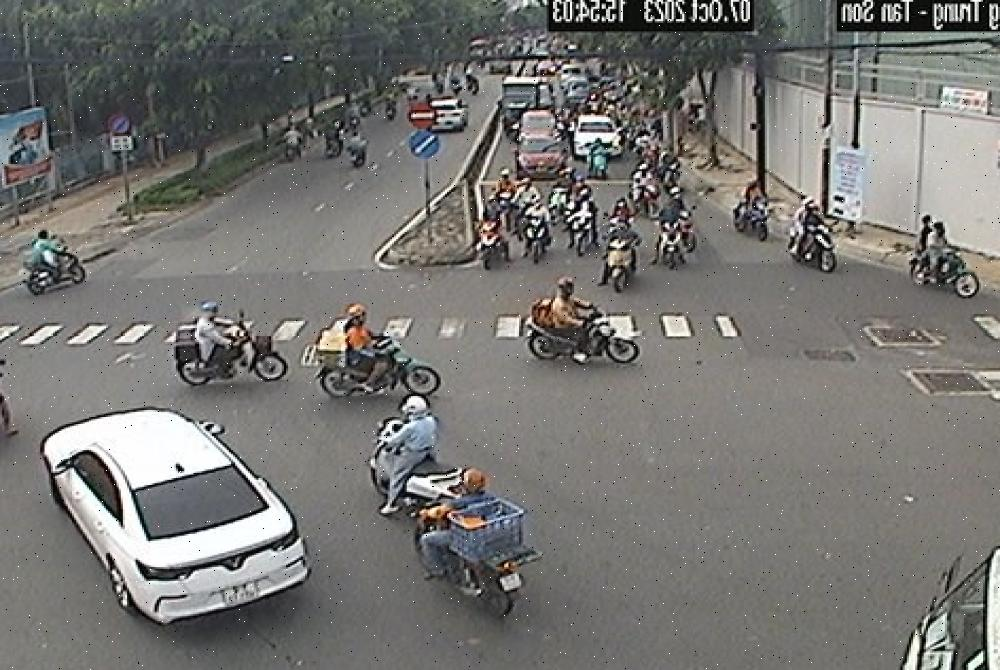car: (36, 394, 309, 650), (515, 108, 570, 204), (567, 96, 625, 168)
motorbike: (389, 503, 629, 621), (354, 417, 510, 524), (511, 302, 661, 374), (138, 325, 292, 391), (304, 333, 453, 398), (776, 216, 864, 293), (892, 246, 996, 306), (716, 196, 803, 242)
truck: (877, 527, 1000, 670)
